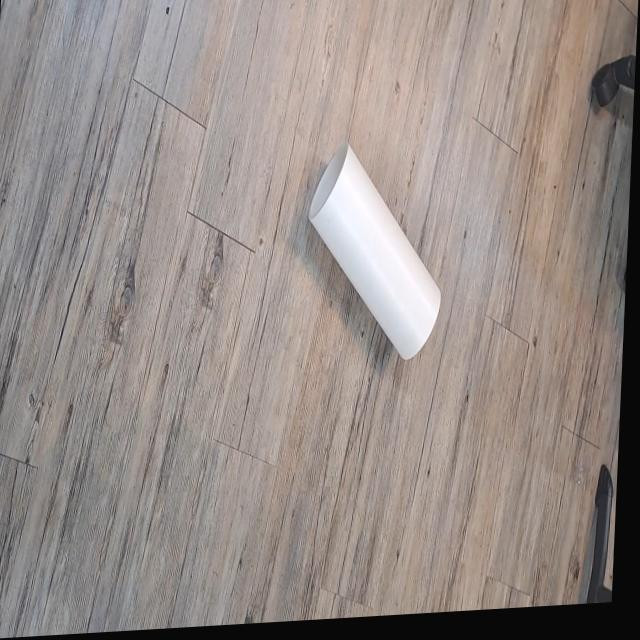CORAL: (277, 120, 466, 385)
